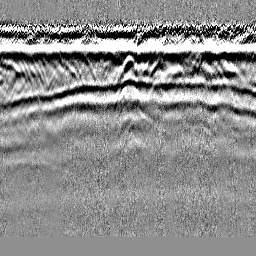cavity: (118, 51, 137, 81)
